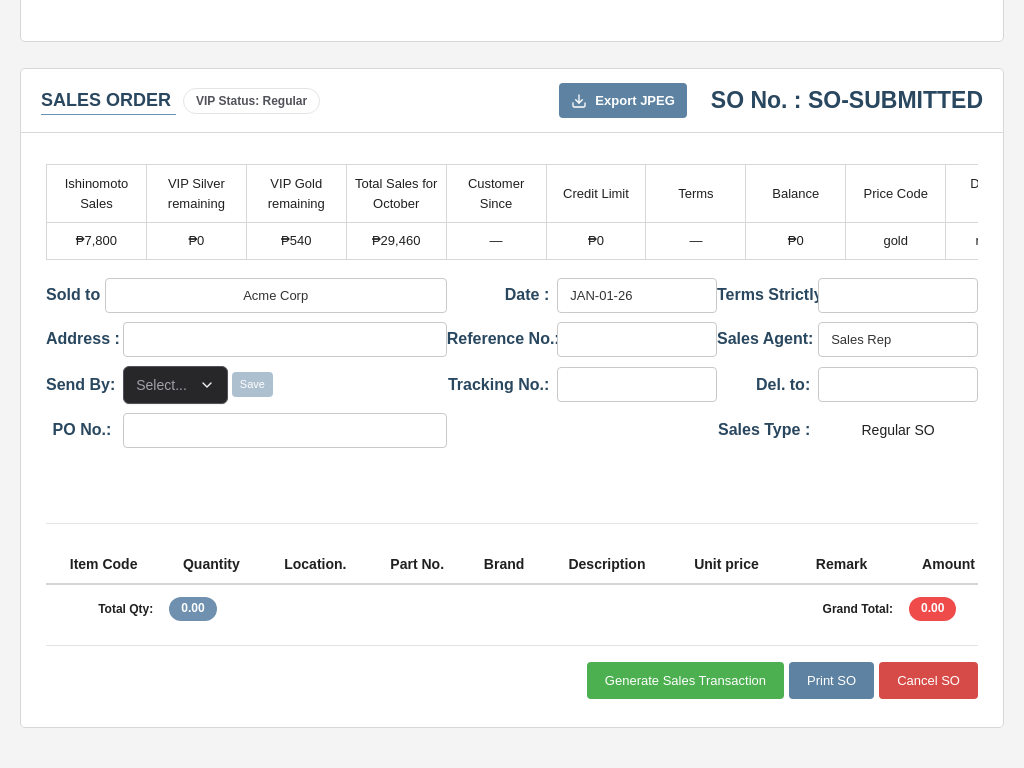
Test: SalesOrderView › lets a non-approver generate the next document from a submitted sales order
The image size is (1024, 768).
(page scrolled)
Expected: the element showing "SO-SUBMITTED" is shown, x1=21 y1=69 x2=1003 y2=133
Click the button "Generate Sales Transaction" at [685, 680], box x1=587 y1=662 x2=784 y2=699
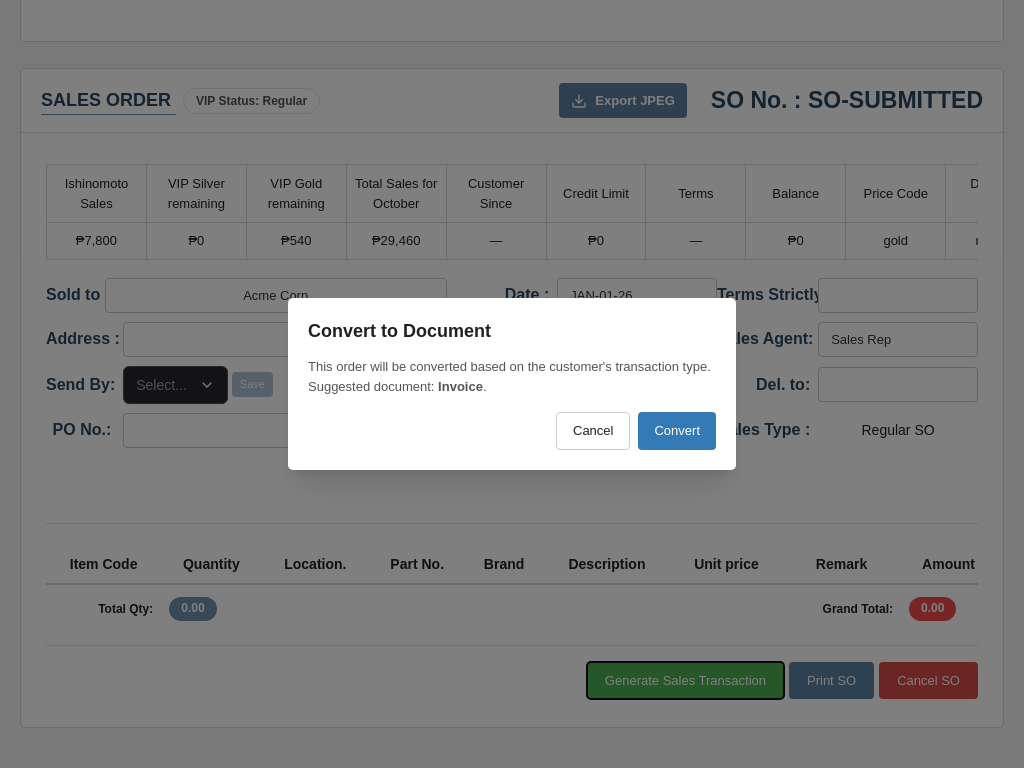
Result: the button "Convert" is shown at x1=638 y1=412 x2=716 y2=450
